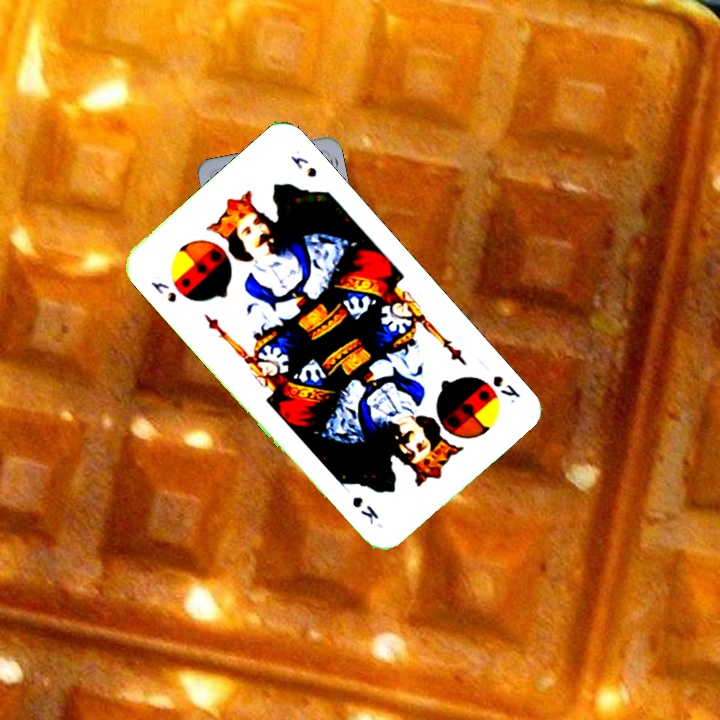SK: (488, 371, 523, 406), (147, 277, 180, 306)
